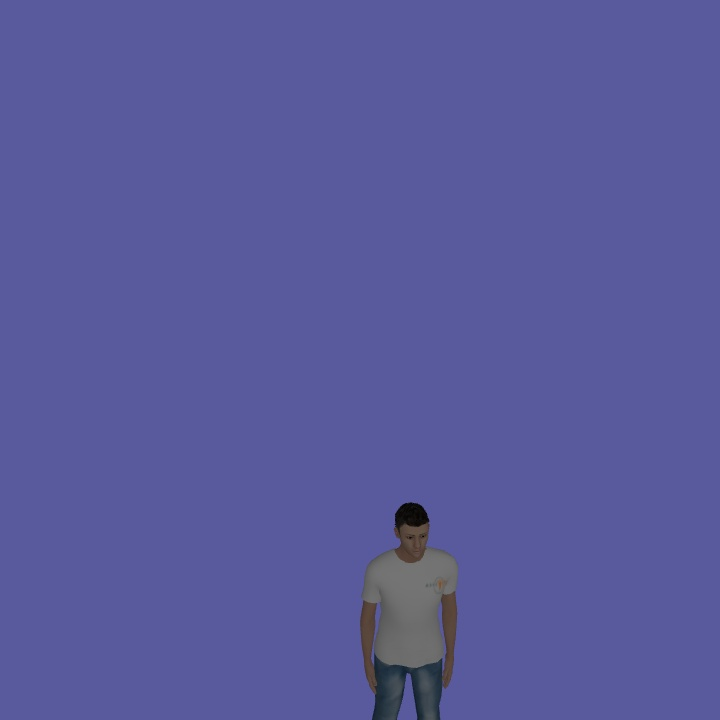victim: (355, 493, 461, 713)
